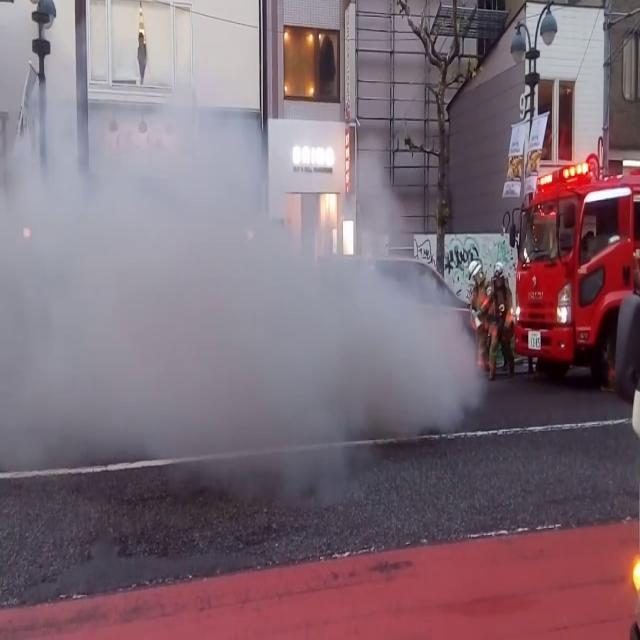Smoke: (0, 31, 483, 484)
